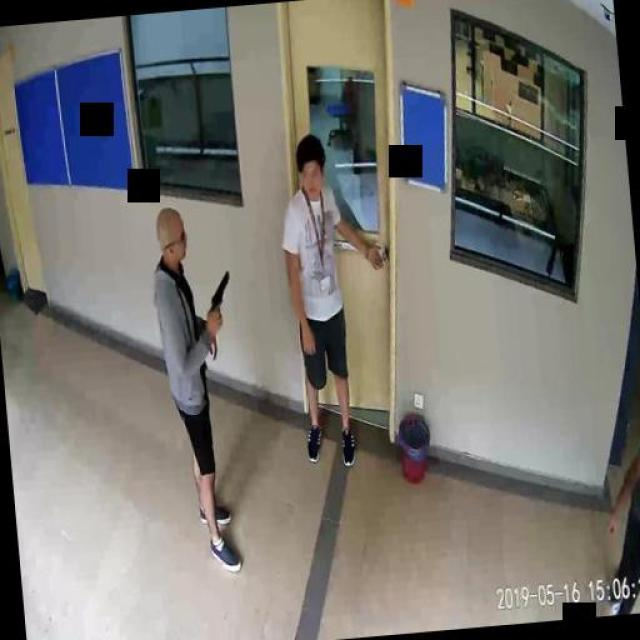gun: (205, 269, 233, 325)
